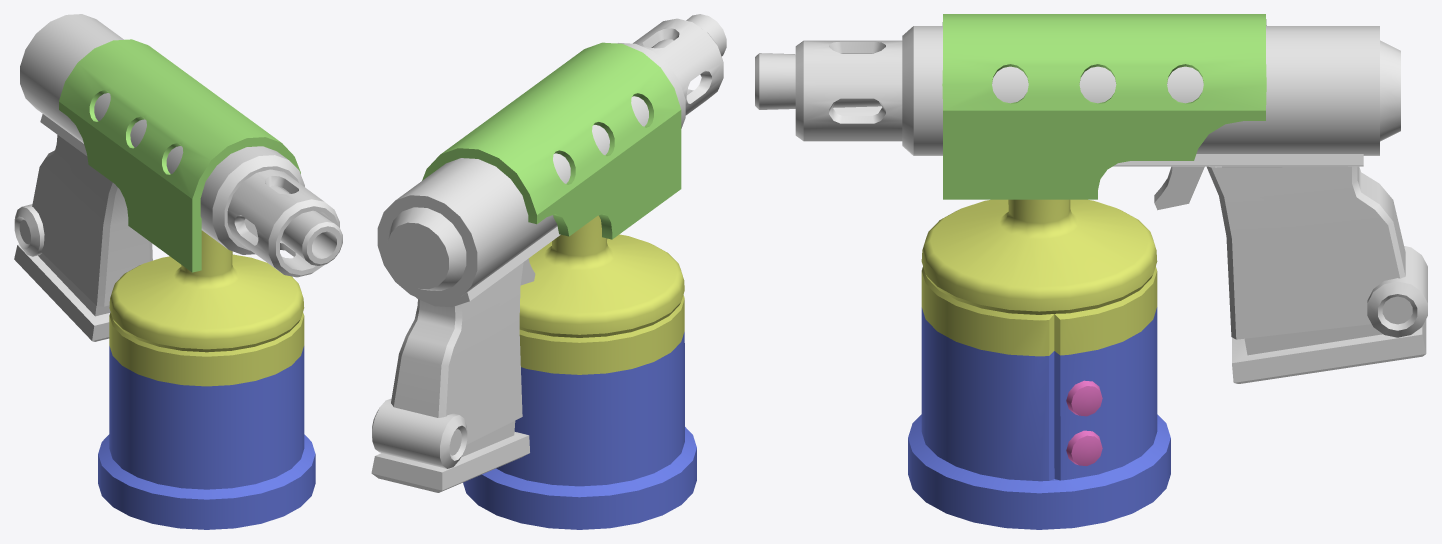
Rendered from 副武器奶油喷枪2.fbx.
The picture shows the model from 3 angles, left to right: view 1: azimuth 30°, elevation 25°; view 2: azimuth 150°, elevation 25°; view 3: azimuth 270°, elevation 25°; orthographic projection. The views are drawn at different scales.
Parts seen in each view (by area): view 1: GasBurner_mesh; view 2: GasBurner_mesh; view 3: GasBurner_mesh.
Part boxes in pixels (<box>): GasBurner_mesh: <box>14,14,342,529</box>; GasBurner_mesh: <box>371,14,726,529</box>; GasBurner_mesh: <box>755,14,1427,529</box>.
Size of the model in its own units: 19.3 by 37.1 by 49.41.
